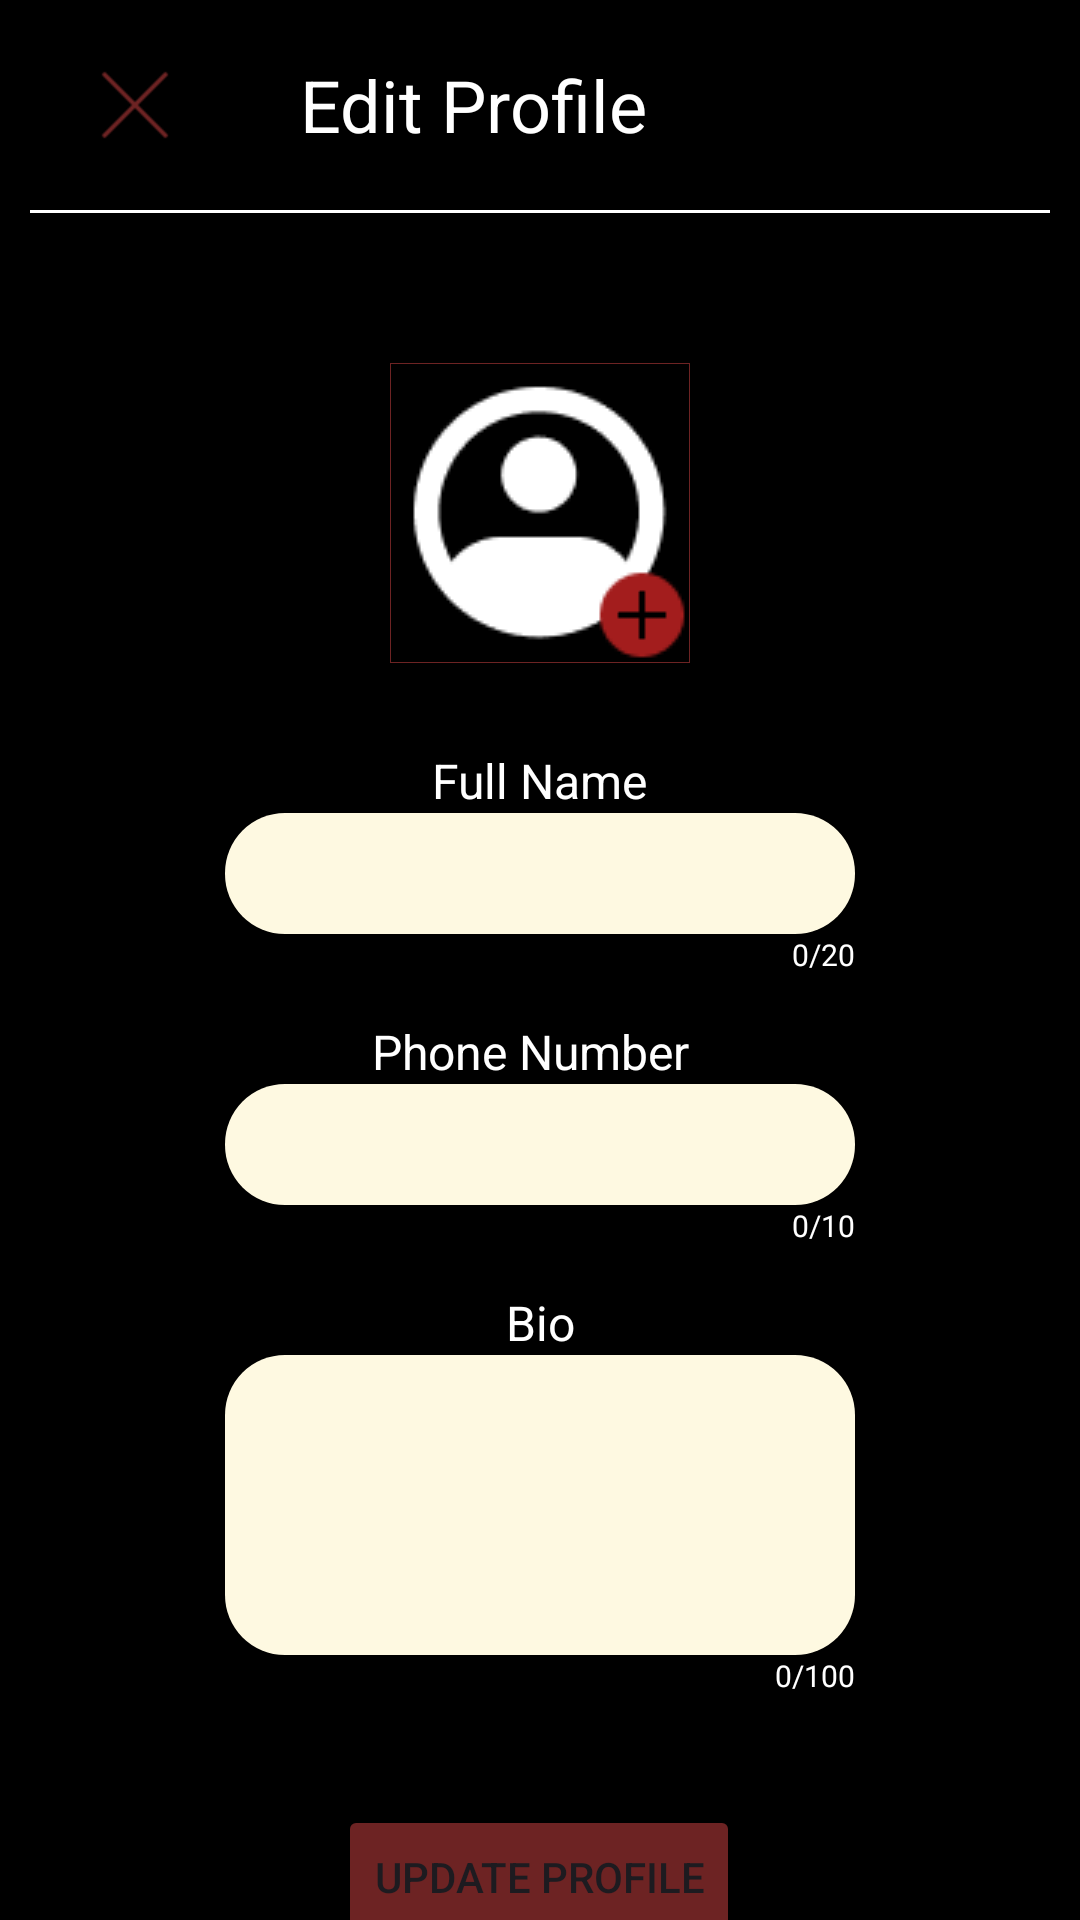

Where to tap for icons on this 1080w x 1920h app screen, as (x,y):
cross: (135,105)
